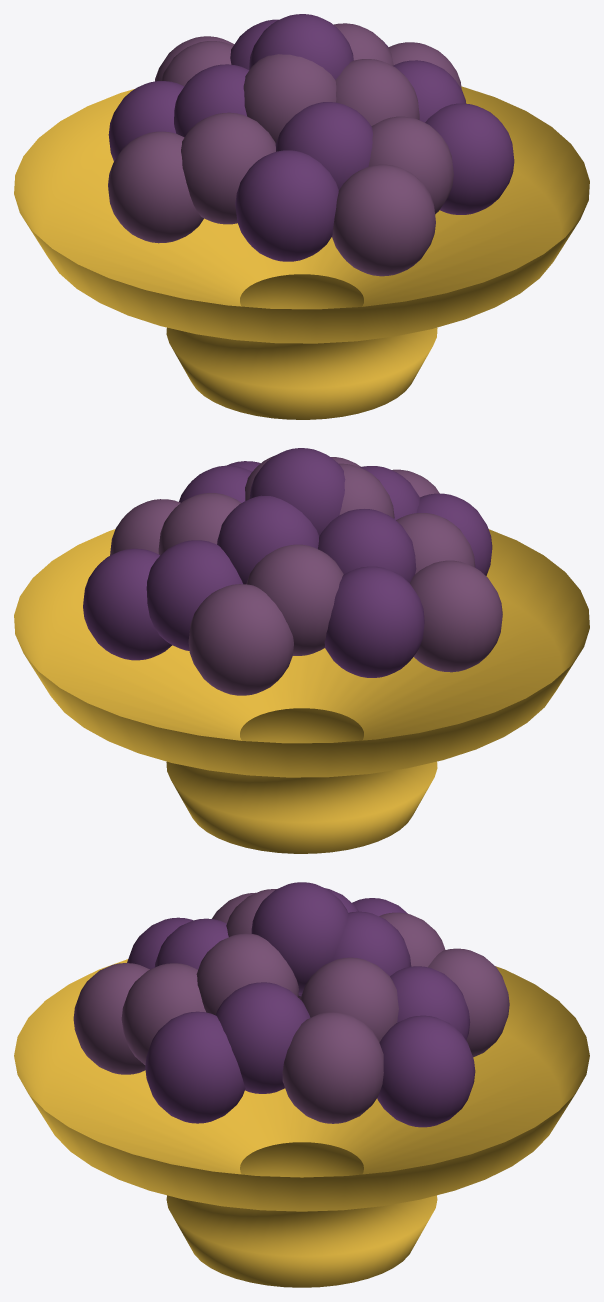
Rendered from grape-bowl.glb.
3 renders of one model, top to bottom at view 1: azimuth 30°, elevation 25°; view 2: azimuth 150°, elevation 25°; view 3: azimuth 270°, elevation 25°, orthographic.
Parts seen in each view (by area): view 1: grape-bowl; view 2: grape-bowl; view 3: grape-bowl.
Part boxes in pixels (box(x1,y1,x2,y2)): grape-bowl: box(14, 14, 589, 419); grape-bowl: box(14, 448, 589, 853); grape-bowl: box(14, 882, 589, 1287).
Bounding box in the file's own units: 1.02 × 0.69 × 1.02.
